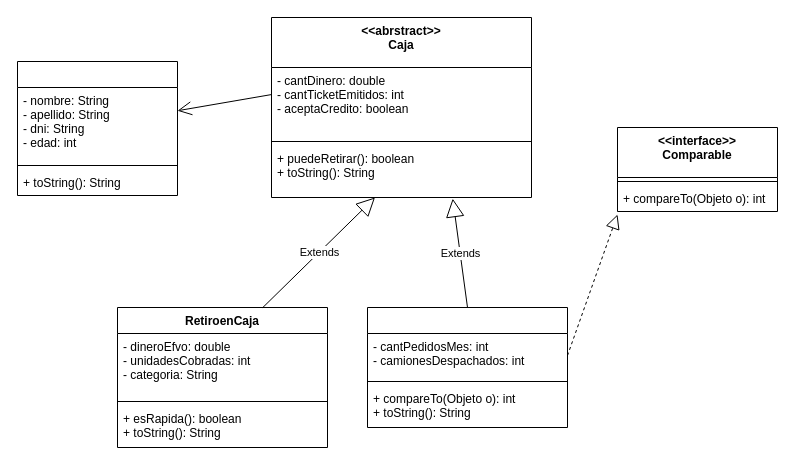
Image size: 795x468. Some labels were removed from this diagram. The box of each missing label's shape, as (x1, y1, x2, y2) in pixels:
EnvioDomicilio: (366, 306, 568, 428)
Persona: (16, 60, 178, 196)
